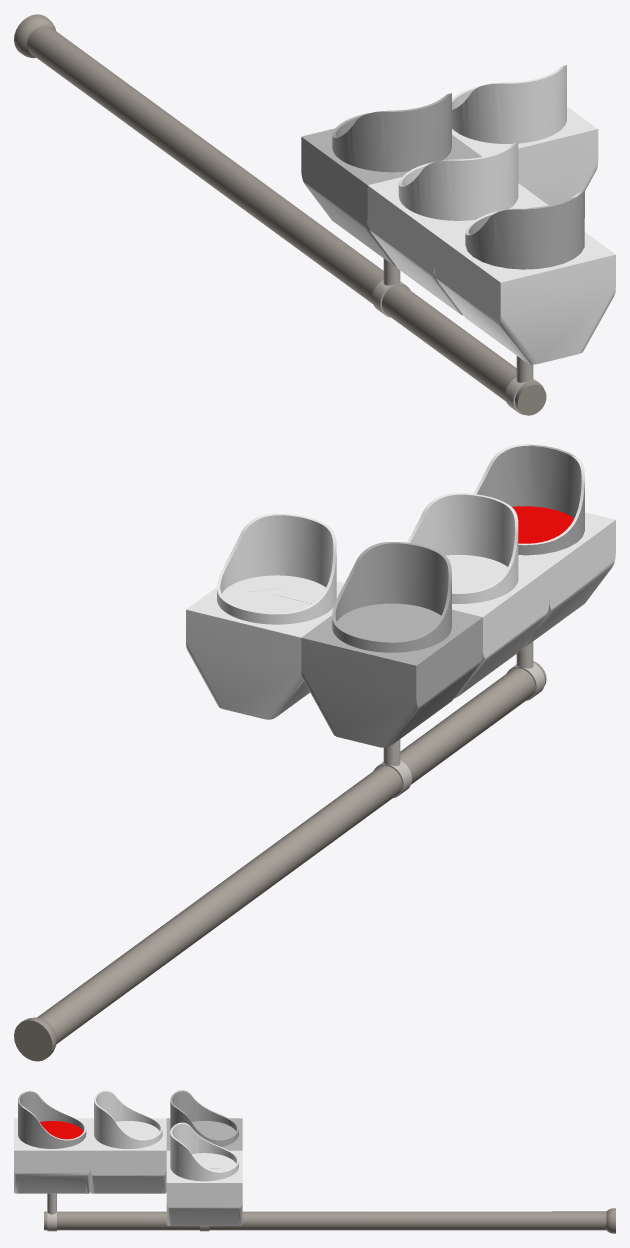
File: svetofor_3_pravo.obj
3 renders of one model, top to bottom at view 1: azimuth 30°, elevation 25°; view 2: azimuth 150°, elevation 25°; view 3: azimuth 270°, elevation 25°, orthographic. The views are drawn at different scales.
Visible parts, largest first — view 1: ________5, ________0, ________2, ________3, ________1, ________4, ________6; view 2: ________3, ________1, ________0, ________2, ________5; view 3: ________0, ________2, ________5, ________1, ________3, ________4.
Part boxes in pixels (x1,y1,x2,y2): ________5: [434, 190, 615, 364]; ________0: [14, 14, 546, 415]; ________2: [367, 142, 548, 315]; ________3: [301, 93, 481, 266]; ________1: [452, 65, 598, 205]; ________4: [505, 356, 543, 414]; ________6: [372, 258, 410, 317]; ________3: [301, 542, 482, 747]; ________1: [186, 513, 344, 719]; ________0: [14, 661, 546, 1061]; ________2: [407, 493, 549, 698]; ________5: [474, 444, 615, 649]; ________0: [44, 1208, 615, 1233]; ________2: [90, 1090, 166, 1193]; ________5: [14, 1090, 90, 1193]; ________1: [166, 1122, 242, 1225]; ________3: [166, 1090, 242, 1150]; ________4: [47, 1193, 56, 1231].
Bounding box in the file's own units: 0.016 × 0.0153 × 0.0632.
